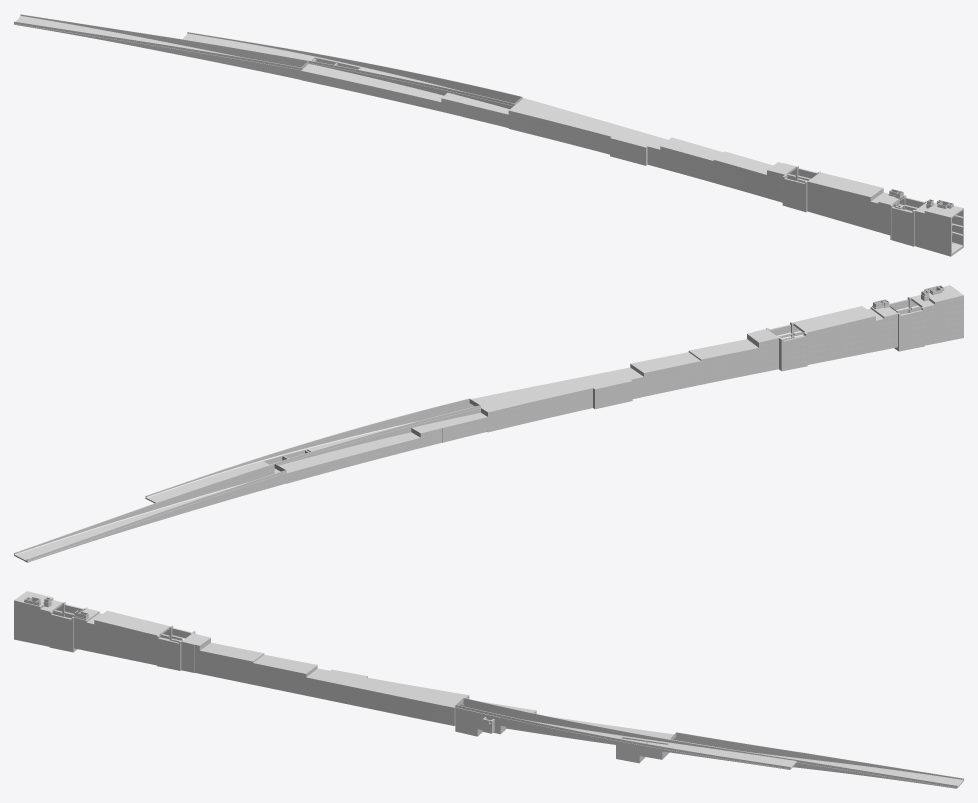
The model's file is NoLod_5.glb.
3 renders of one model, top to bottom at view 1: azimuth 90°, elevation 25°; view 2: azimuth 150°, elevation 25°; view 3: azimuth 270°, elevation 25°, orthographic. The views are drawn at different scales.
Visible parts, largest first — view 1: rtc; view 2: rtc; view 3: rtc.
Boxes of the visible parts, x1=… form: rtc: x1=14, y1=14, x2=963, y2=256; rtc: x1=14, y1=285, x2=963, y2=562; rtc: x1=14, y1=591, x2=963, y2=788.
Bounding box in the file's own units: 307 × 31.58 × 618.
1 material, 1 textured.
